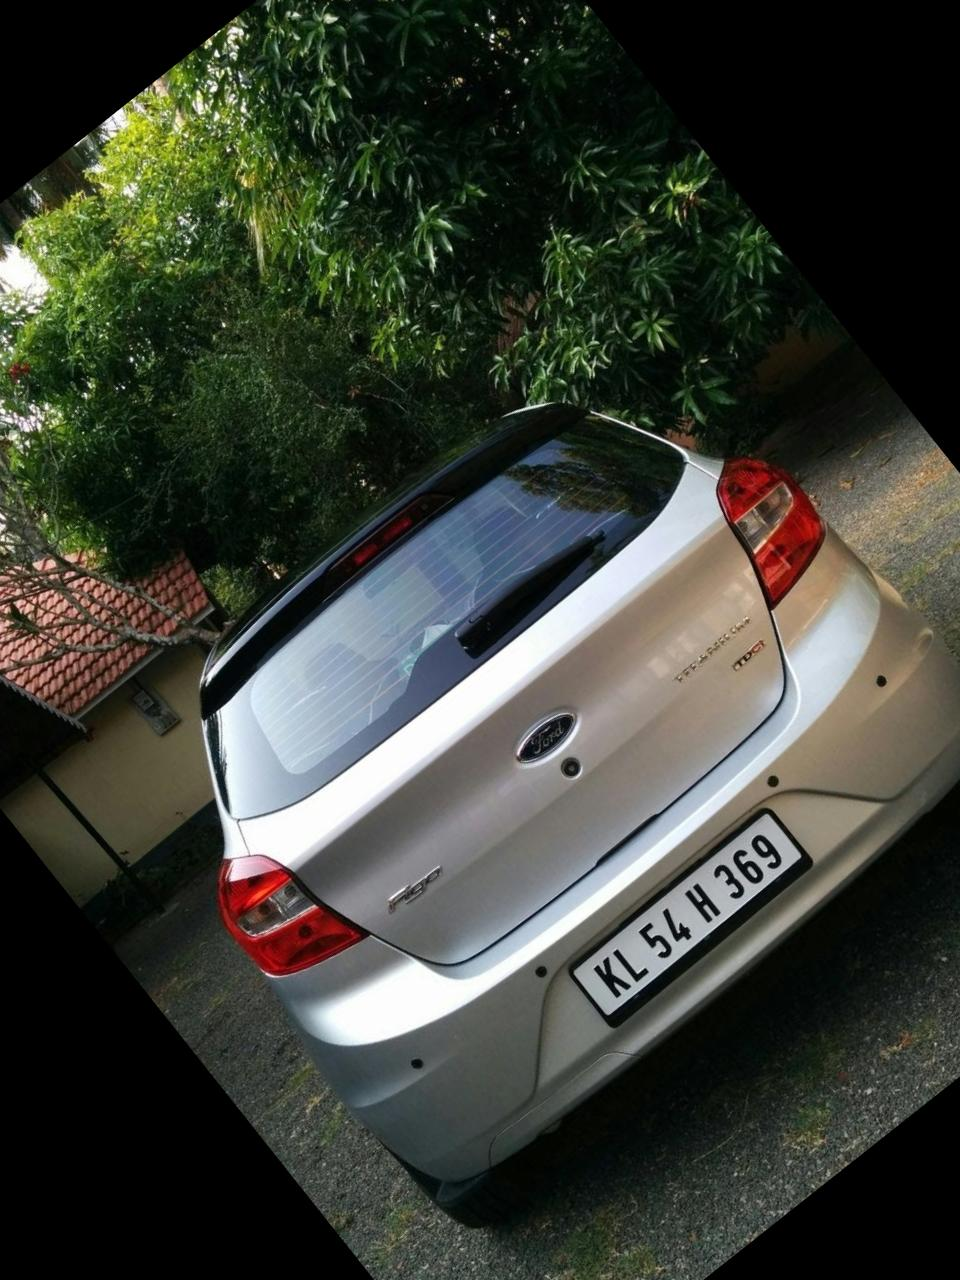plate: (547, 767, 872, 1062)
